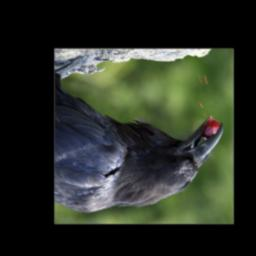Crow: (55, 49, 225, 213)
